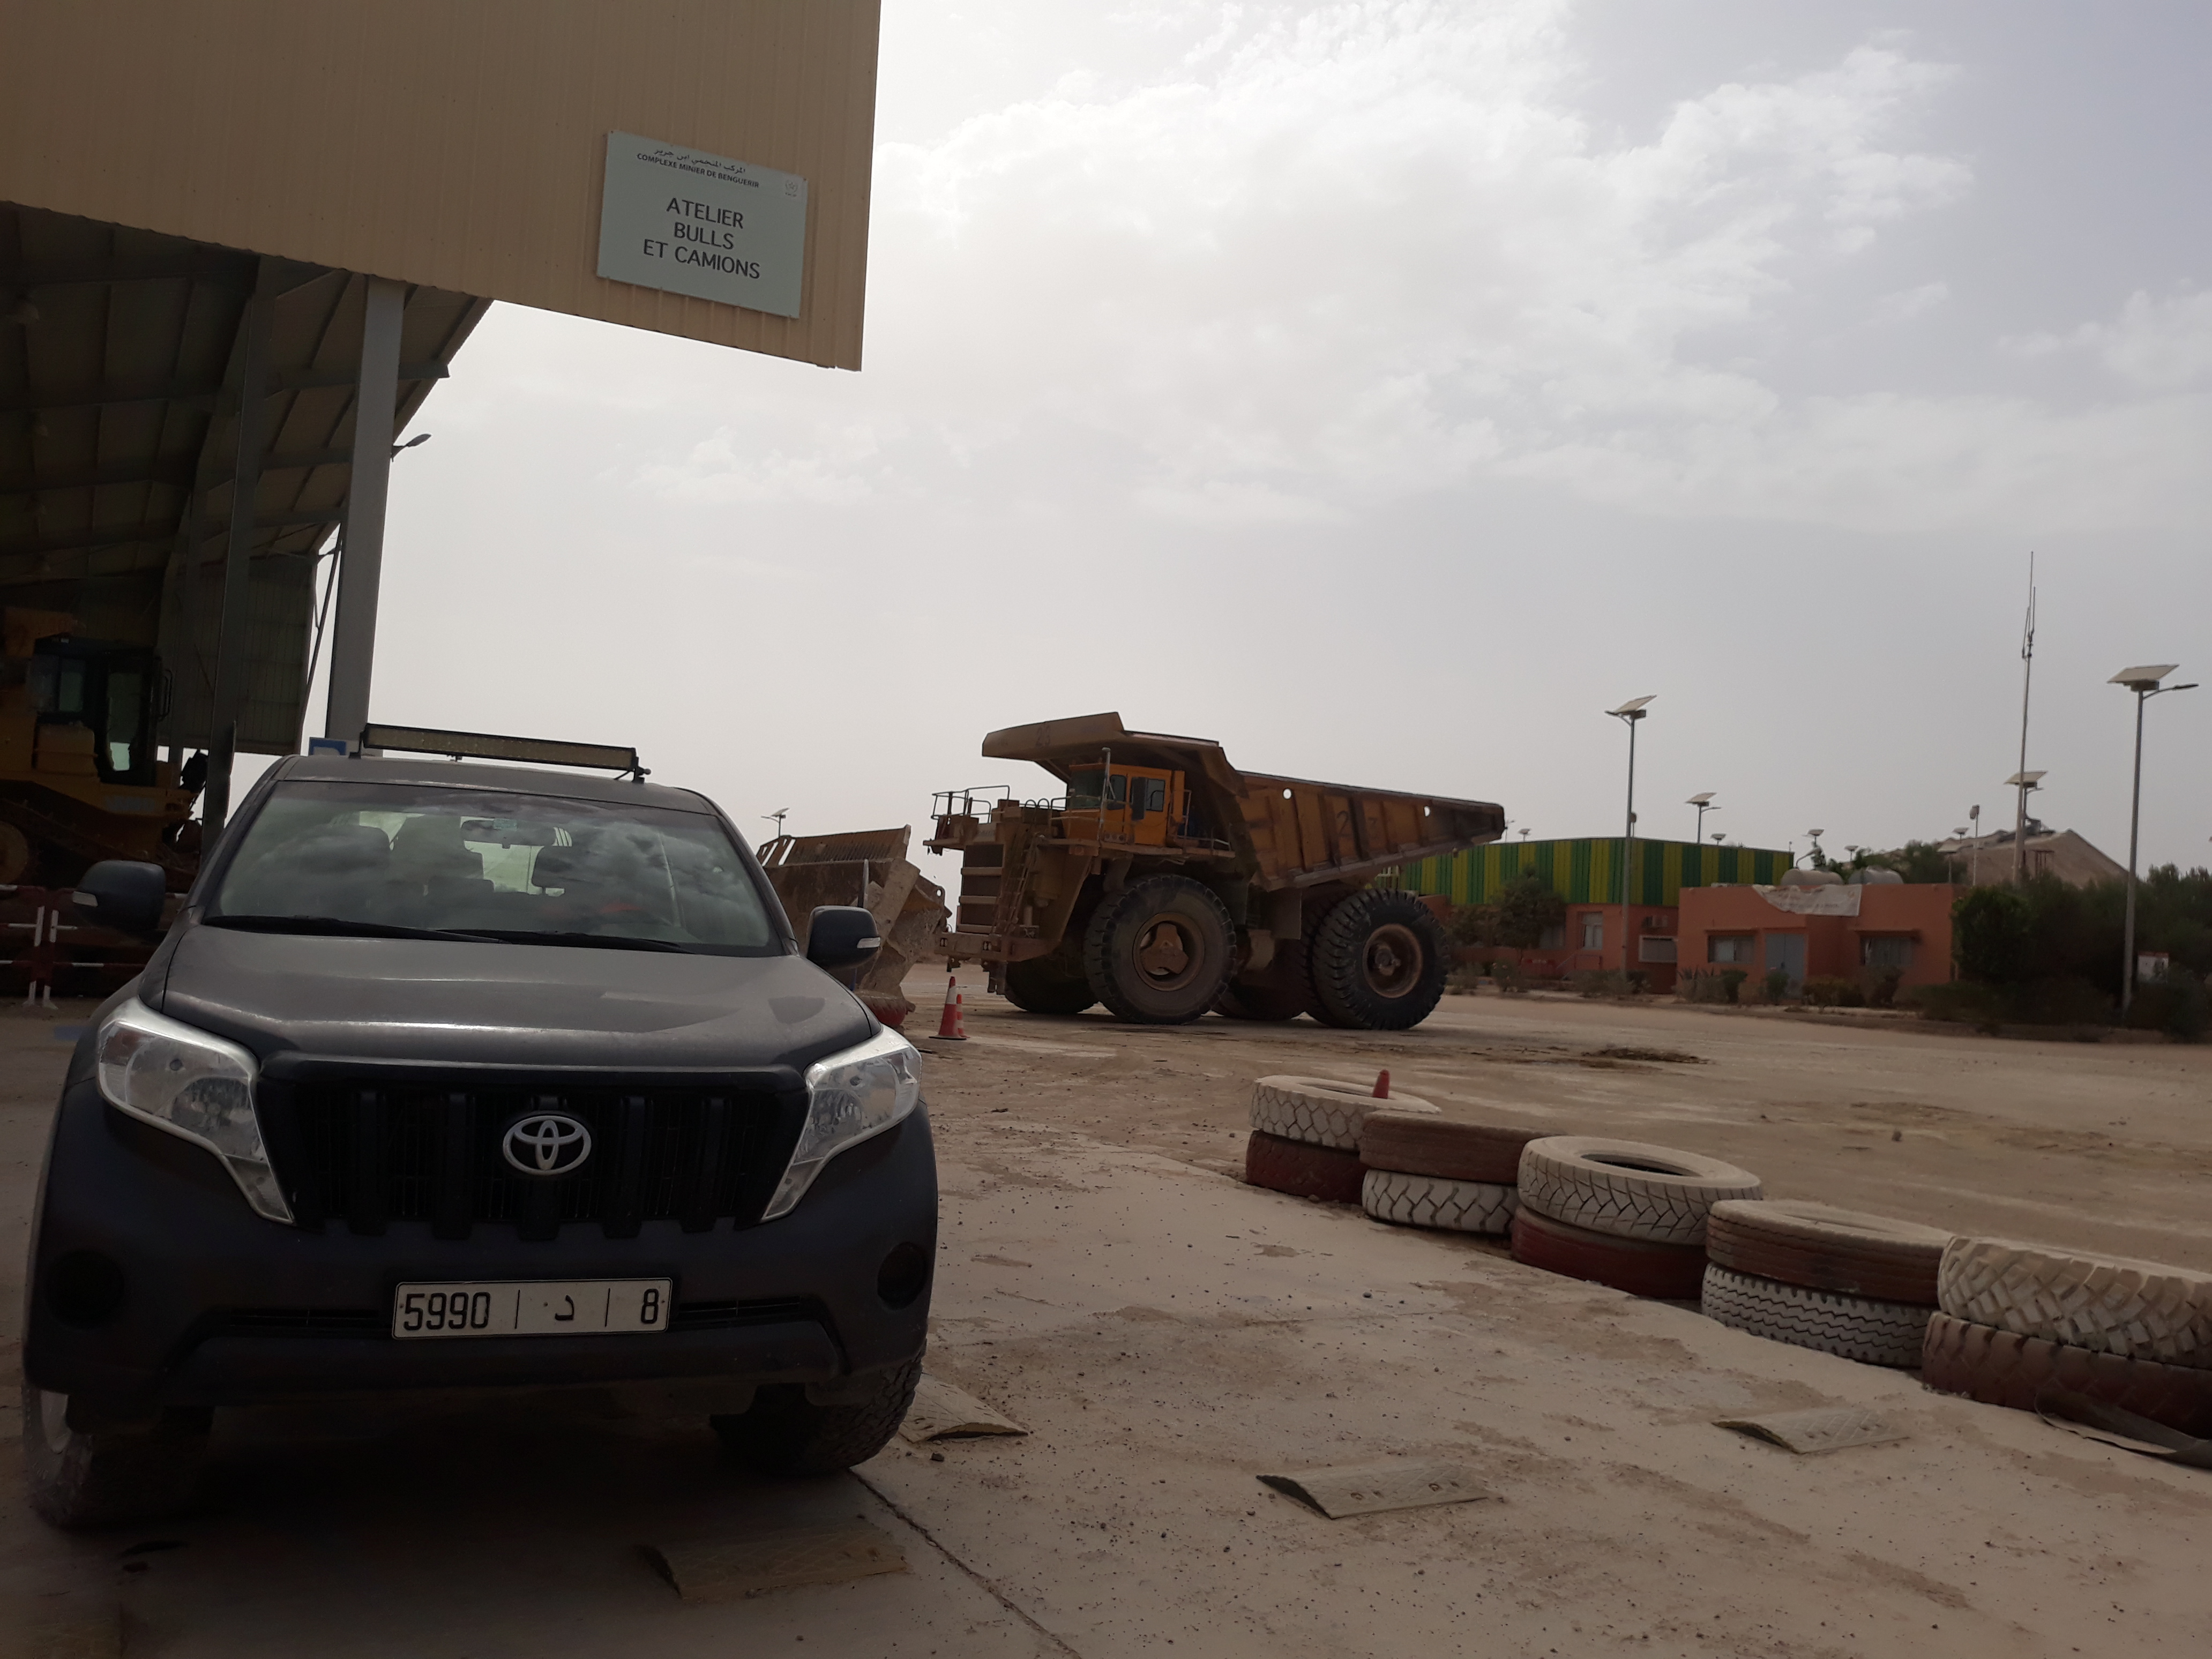camion: (942, 702, 1541, 1058)
car: (23, 702, 956, 1574)
